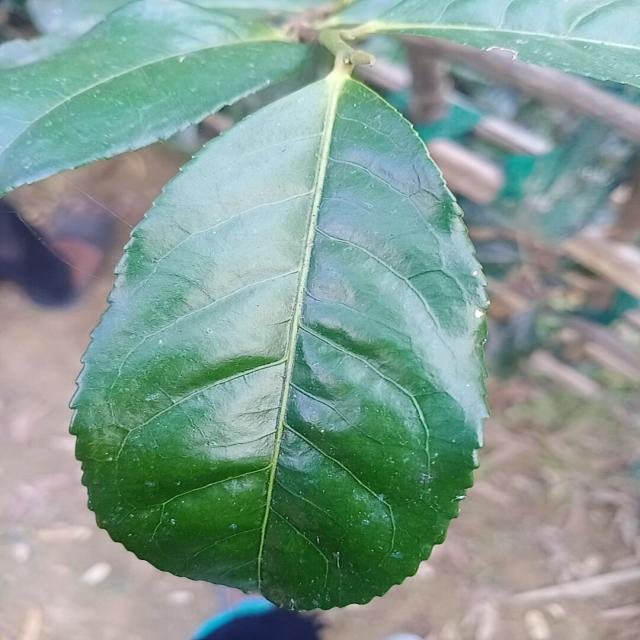Category D(7+ days, Not for Tea): (32, 58, 517, 625)
